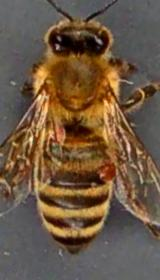varroa_mite: (94, 156, 115, 184)
